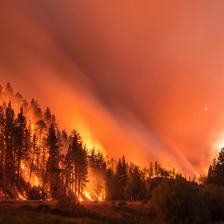fire: (5, 100, 127, 202)
